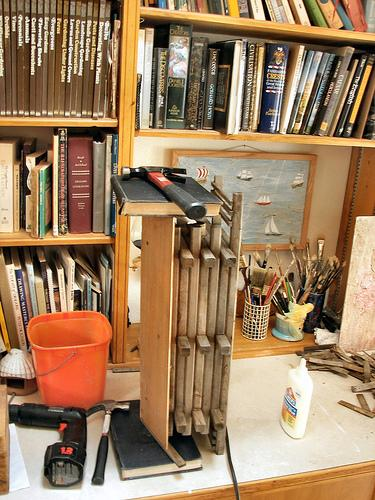hammer: (119, 162, 207, 219), (84, 396, 132, 483)
